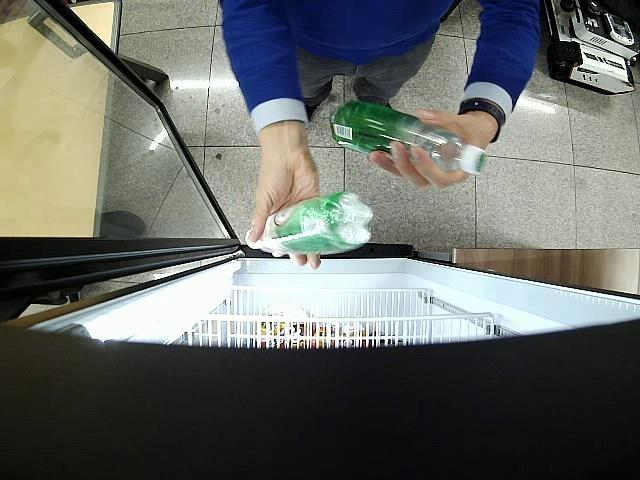18_trevi: (332, 100, 488, 175), (246, 192, 372, 253)
